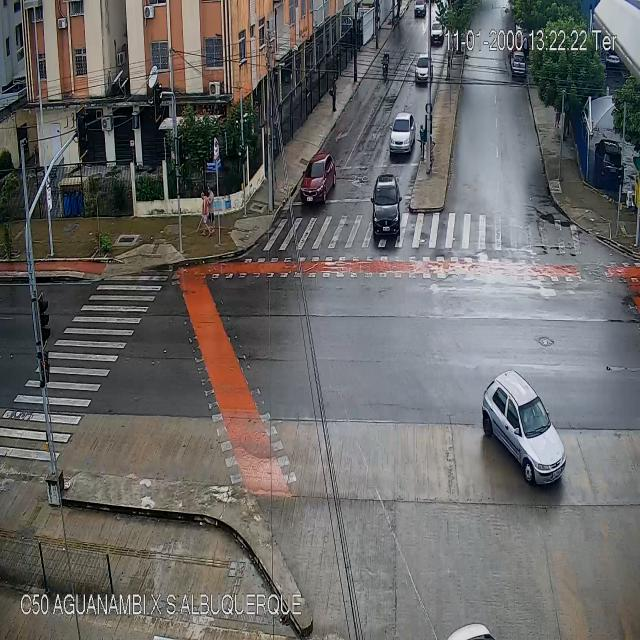Car: (470, 357, 577, 493), (371, 174, 402, 239), (300, 151, 336, 200), (390, 113, 414, 152), (413, 54, 432, 82), (409, 0, 427, 22), (431, 20, 444, 46), (512, 52, 526, 75)
Motorcycle: (381, 51, 389, 79)
